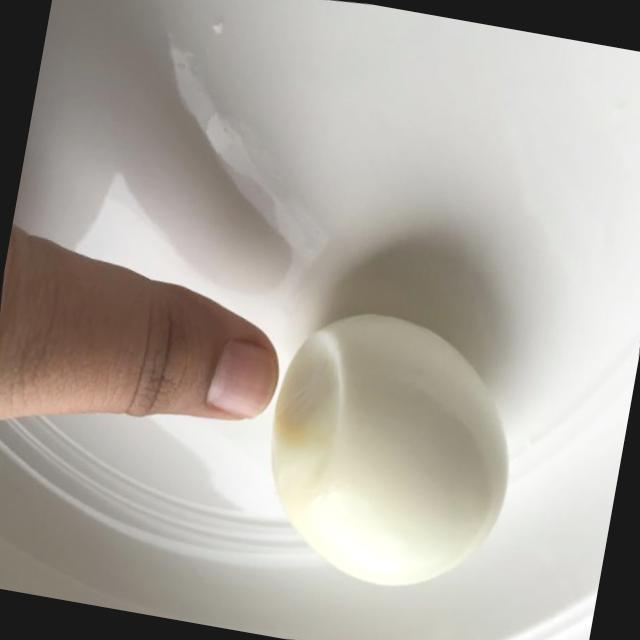Egg: (230, 275, 560, 624)
Finger: (58, 241, 303, 461)
